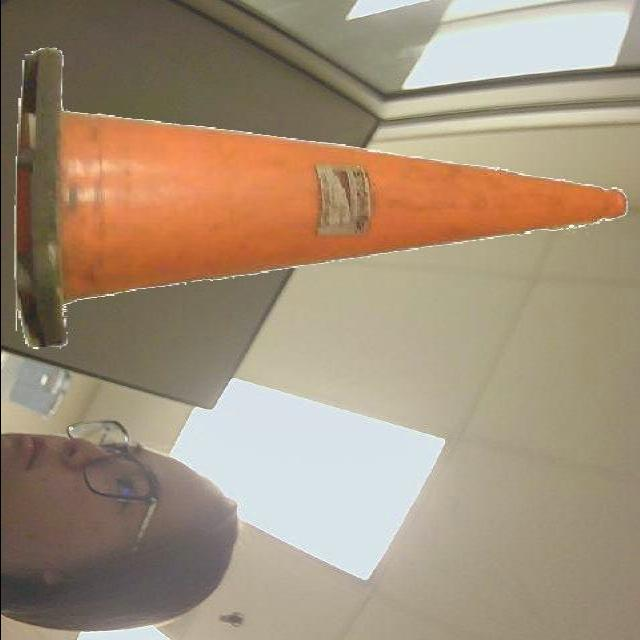traffic cone: (4, 41, 634, 357)
